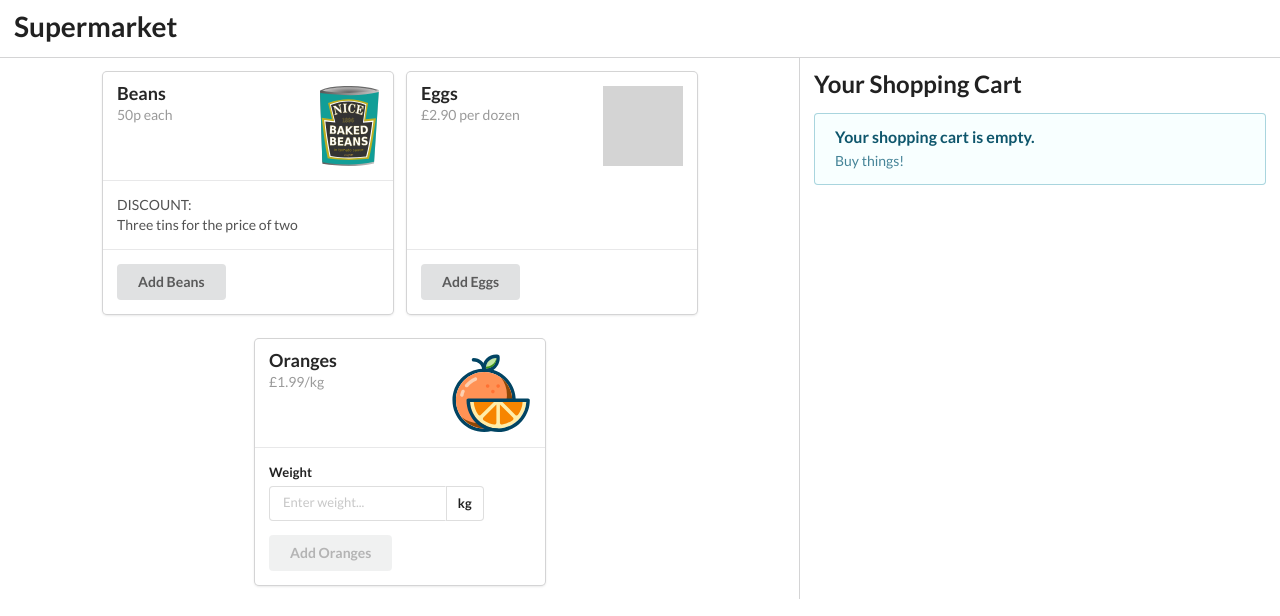
removes items from the cart
This screenshot has width=1280, height=616.
Click the button "Add Beans" at (171,282), box 117,264 -> 226,300
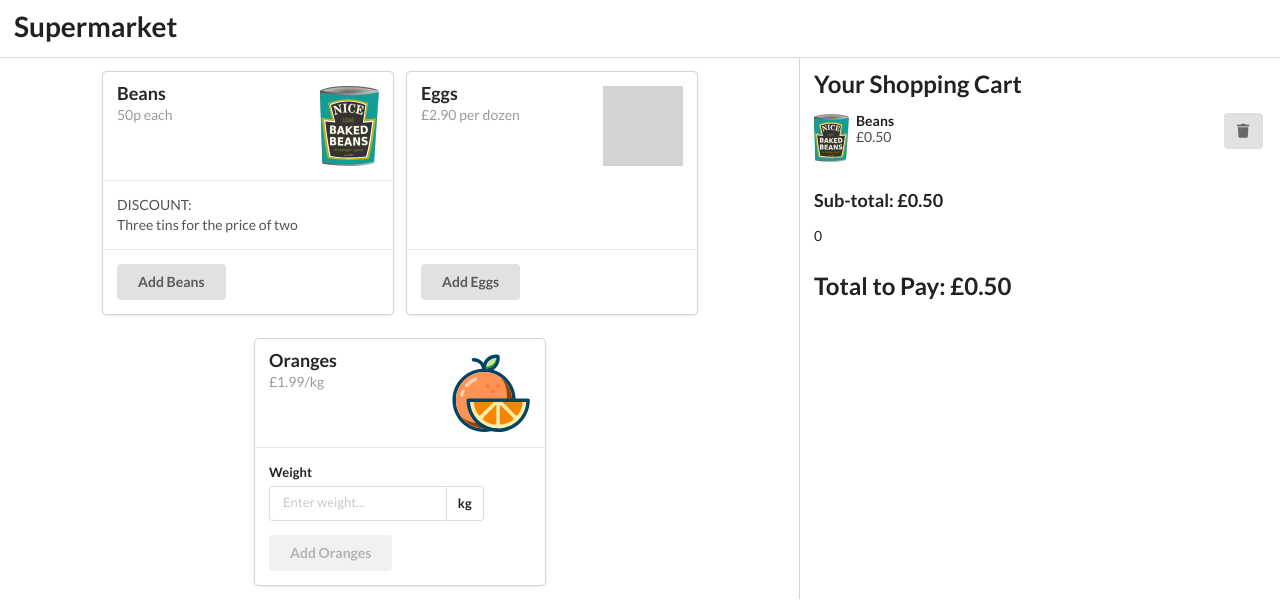
expect the heading "Total to Pay: £0.50" is shown: met, box 814,271 -> 1011,300
Click the button titled "Remove Beans" at (1243,131), box 1224,113 -> 1262,149
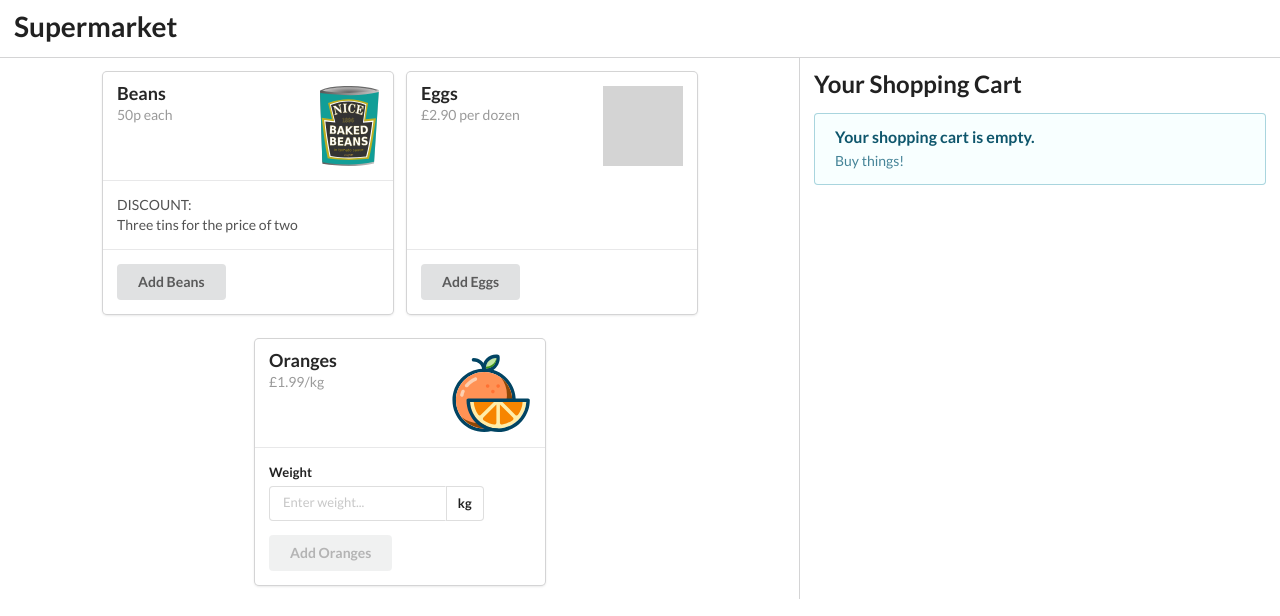
expect the heading "Total to Pay" is gone: met
